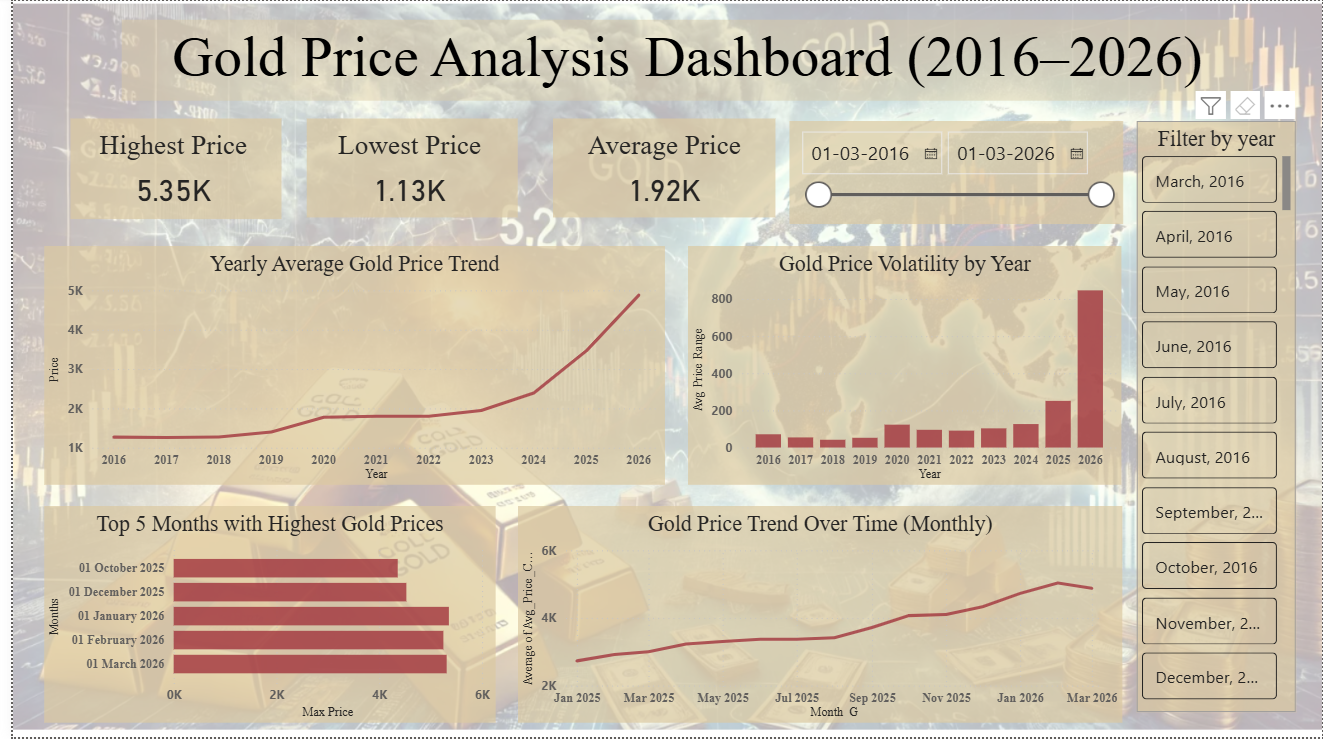

This screenshot's page, from the dashboard's own definition file:
{"tool":"powerbi","page":{"name":"Page 1","canvas":[1280,720],"ordinal":0},"visuals":[{"type":"lineChart","title":"Yearly Average Gold Price Trend","fields":{"Category":["Gold Futures historical data 2026 by alteryx.Month_G.Variation.Date Hierarchy.Year","Gold Futures historical data 2026 by alteryx.Month_G.Variation.Date Hierarchy.Quarter","Gold Futures historical data 2026 by alteryx.Month_G.Variation.Date Hierarchy.Month","Gold Futures historical data 2026 by alteryx.Month_G.Variation.Date Hierarchy.Day"],"Y":["Avg(Gold Futures historical data 2026 by alteryx.Avg_Price_Clean)"]},"box":[30.3,239.5,607.4,233.7],"z":0},{"type":"clusteredColumnChart","title":"Gold Price Volatility by Year","fields":{"Y":["Avg(Gold Futures historical data 2026 by alteryx.Price_Range)"],"Category":["Gold Futures historical data 2026 by alteryx.Month_G.Variation.Date Hierarchy.Year"]},"box":[660.8,239.5,424.2,233.7],"z":1000},{"type":"textbox","box":[106.8,18.8,1106.6,79.4],"z":2000},{"type":"clusteredBarChart","title":"Top 5 Months with Highest Gold Prices","fields":{"Y":["Max(Gold Futures historical data 2026 by alteryx.Max_Price_Clean)"],"Category":["Gold Futures historical data 2026 by alteryx.Month_G"]},"box":[30.3,493.4,441.5,212.1],"z":3000},{"type":"card","title":"Highest Price ","fields":{"Values":["Max(Gold Futures historical data 2026 by alteryx.Max_Price_Clean)"]},"box":[56.3,115.4,206.3,98.1],"z":4000},{"type":"lineChart","title":"Gold Price Trend Over Time (Monthly)","fields":{"Category":["Gold Futures historical data 2026 by alteryx.Month_G"],"Y":["Avg(Gold Futures historical data 2026 by alteryx.Avg_Price_Clean)"]},"box":[493.4,493.4,591.5,212.1],"z":5000},{"type":"card","title":"Lowest Price ","fields":{"Values":["Min(Gold Futures historical data 2026 by alteryx.Min_Price_Clean)"]},"box":[287.1,115.4,206.3,96.7],"z":6000},{"type":"card","title":"Average Price ","fields":{"Values":["Avg(Gold Futures historical data 2026 by alteryx.Avg_Price_Clean)"]},"box":[528.1,115.4,217.9,96.7],"z":7000},{"type":"slicer","fields":{"Values":["Gold Futures historical data 2026 by alteryx.Month_G"]},"box":[758.9,116.9,326.1,101],"z":7001},{"type":"advancedSlicerVisual","title":"Filter by year","fields":{"Values":["Gold Futures historical data 2026 by alteryx.Month_G"]},"box":[1099.4,116.9,155.8,578.5],"z":7002}]}

Visuals, with their boxes in screenshot pixels (x1, y1, x2, y2), scaled from the page's 1280x720 canvas onto the 1323x739 screenshot:
"Yearly Average Gold Price Trend" lineChart: (x1=31, y1=246, x2=659, y2=486)
"Gold Price Volatility by Year" clusteredColumnChart: (x1=683, y1=246, x2=1121, y2=486)
textbox: (x1=110, y1=19, x2=1254, y2=101)
"Top 5 Months with Highest Gold Prices" clusteredBarChart: (x1=31, y1=506, x2=488, y2=724)
"Highest Price " card: (x1=58, y1=118, x2=271, y2=219)
"Gold Price Trend Over Time (Monthly)" lineChart: (x1=510, y1=506, x2=1121, y2=724)
"Lowest Price " card: (x1=297, y1=118, x2=510, y2=218)
"Average Price " card: (x1=546, y1=118, x2=771, y2=218)
slicer - Gold Futures historical data 2026 by alteryx.Month_G: (x1=784, y1=120, x2=1121, y2=224)
"Filter by year" advancedSlicerVisual: (x1=1136, y1=120, x2=1297, y2=714)
